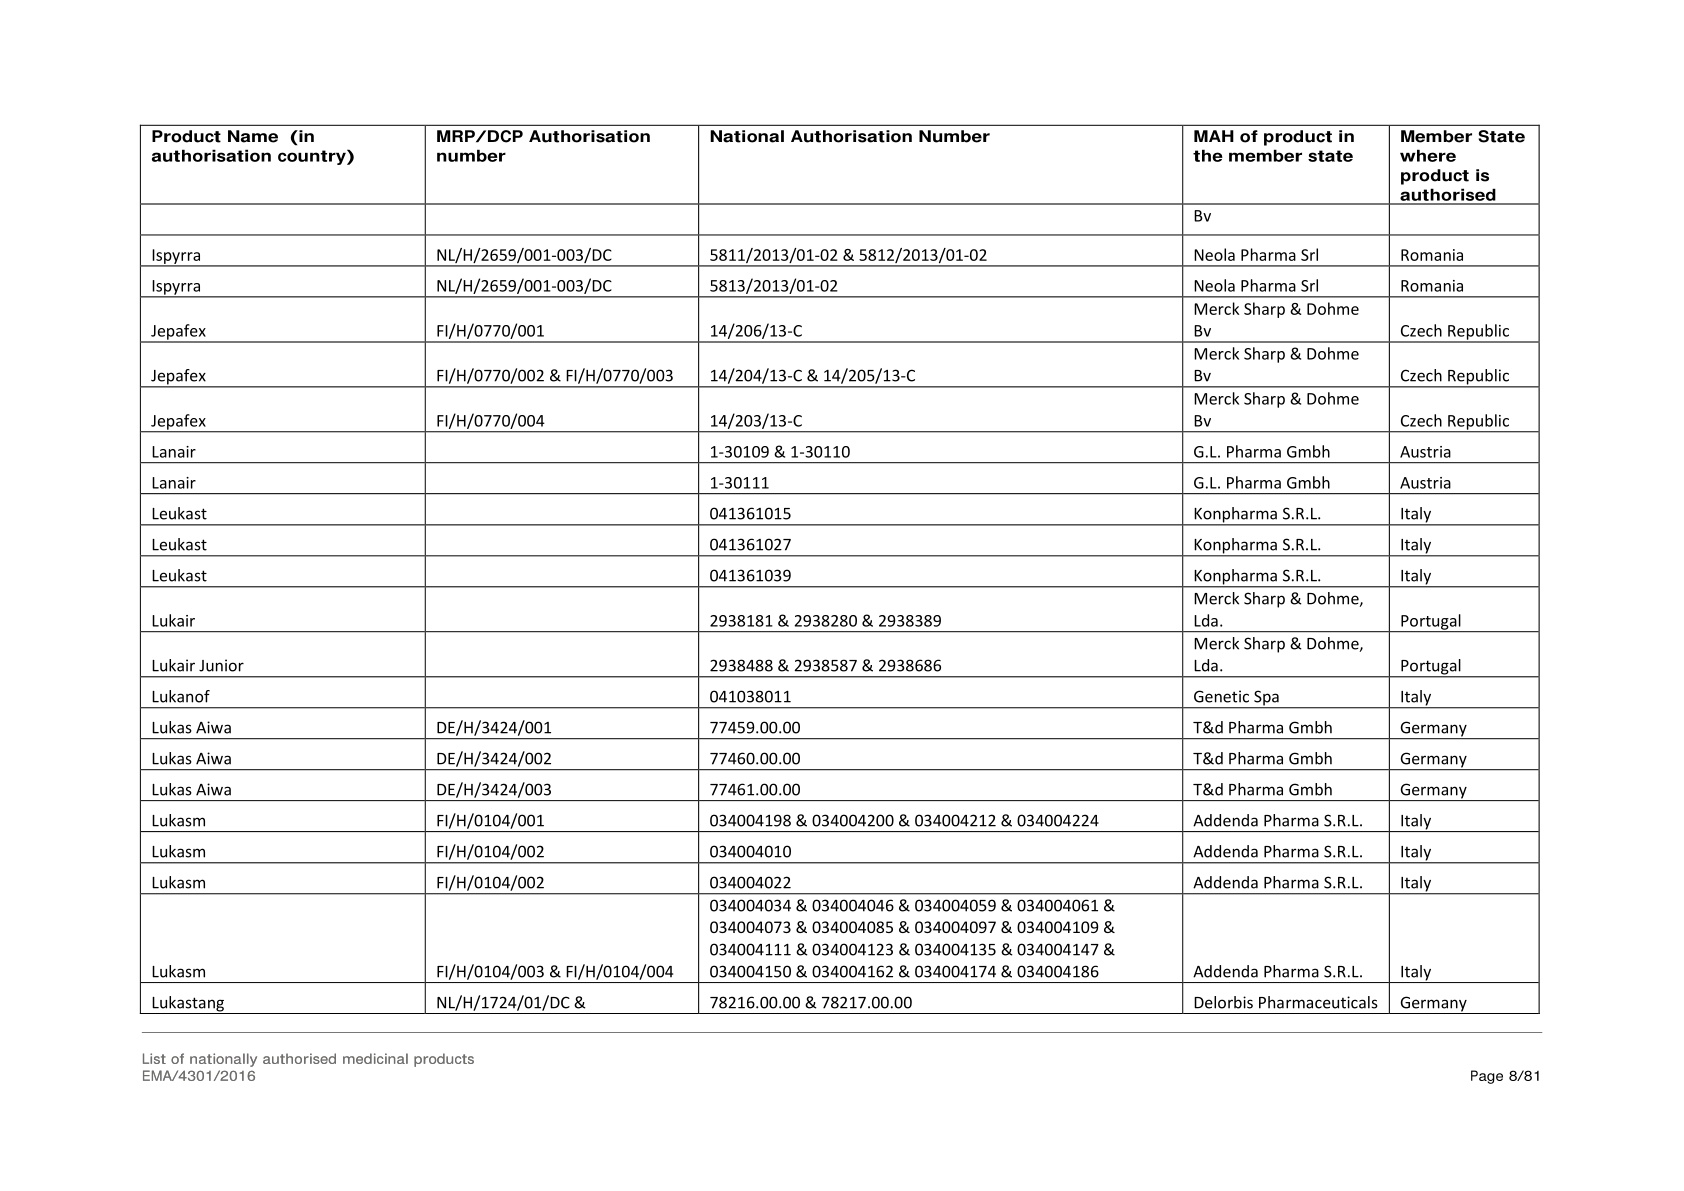full_lined: (129, 113, 1553, 1023)
